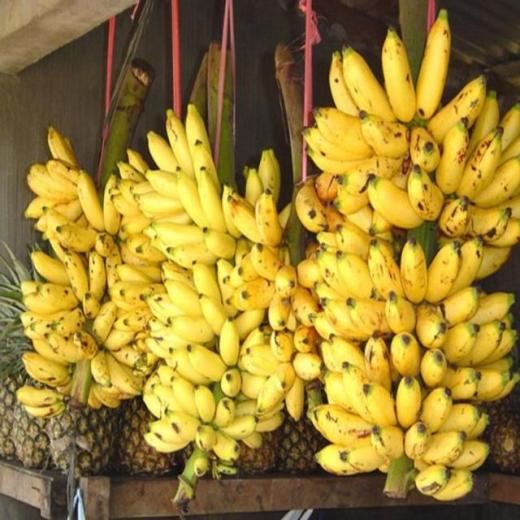Banana: (15, 8, 519, 498), (415, 7, 449, 117)
